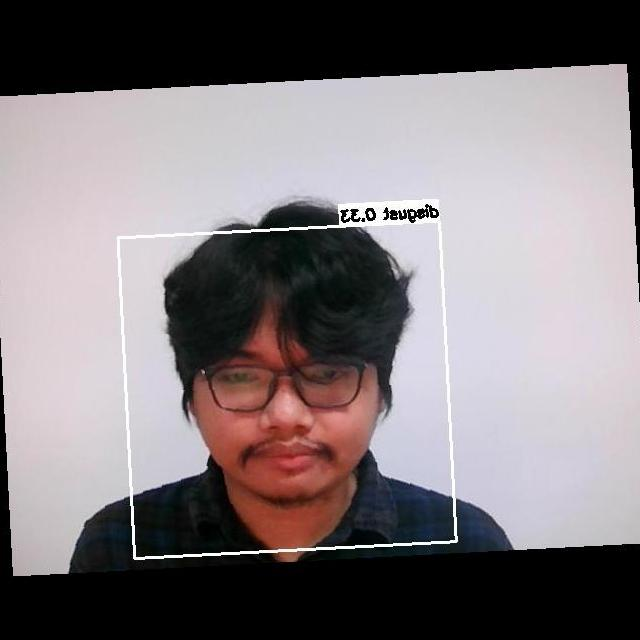Natural: (187, 325, 405, 478)
